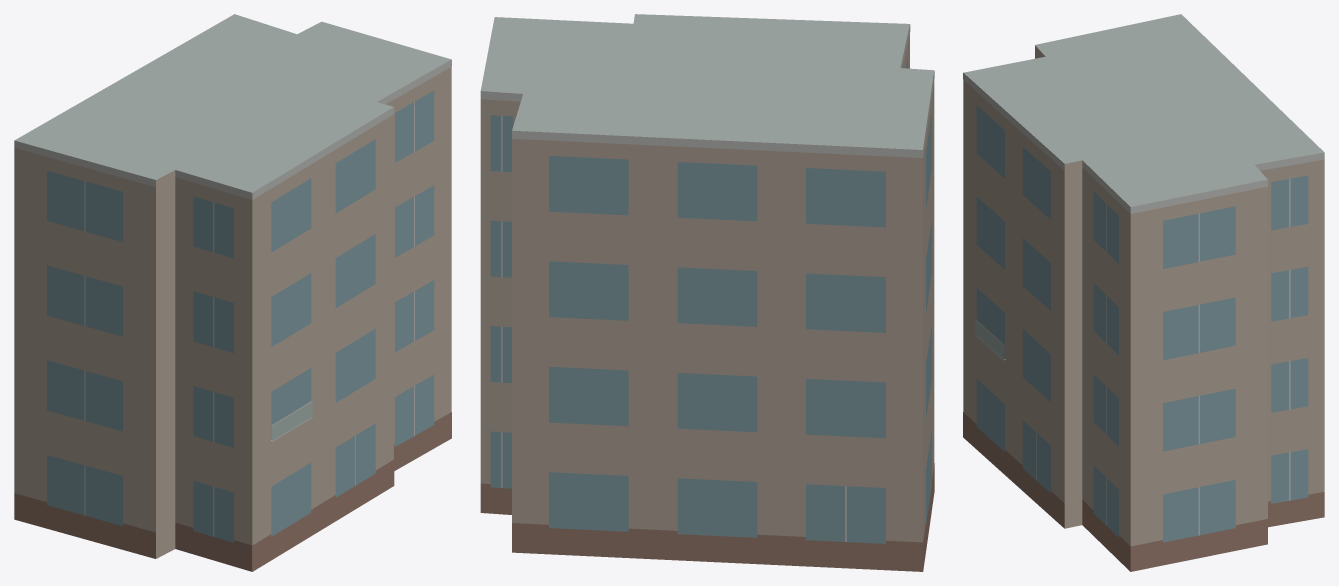
File: survey-upis-32509065.glb
3 renders of one model, left to right at view 1: azimuth 30°, elevation 25°; view 2: azimuth 150°, elevation 25°; view 3: azimuth 270°, elevation 25°, orthographic. The views are drawn at different scales.
Parts seen in each view (by area): view 1: survey-upis-32509065.tmp; view 2: survey-upis-32509065.tmp; view 3: survey-upis-32509065.tmp.
Part boxes in pixels (box(x1,y1,x2,y2)): survey-upis-32509065.tmp: box(14, 14, 451, 571); survey-upis-32509065.tmp: box(480, 14, 934, 571); survey-upis-32509065.tmp: box(963, 14, 1324, 571).
Size of the model in its own units: 14.54 by 12.8 by 11.5.
